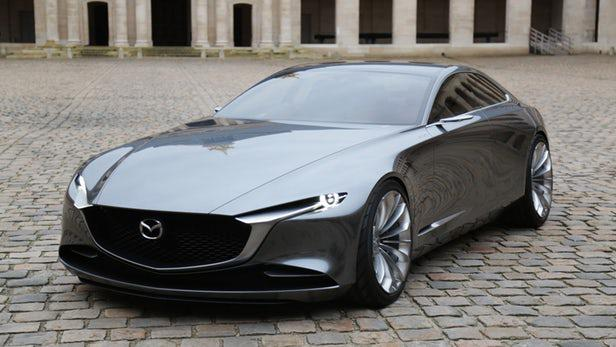car: (45, 55, 591, 321)
